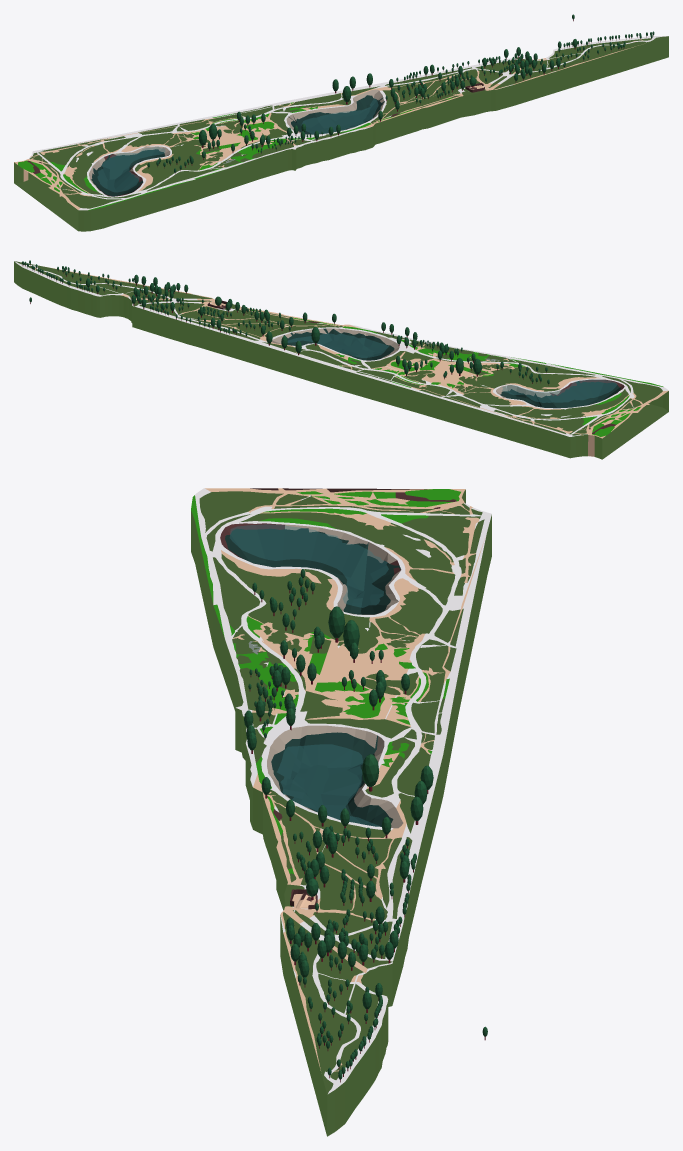
The model's file is parque.glb.
The picture shows the model from 3 angles, top to bottom: view 1: azimuth 30°, elevation 25°; view 2: azimuth 150°, elevation 25°; view 3: azimuth 270°, elevation 25°; orthographic projection. The views are drawn at different scales.
Parts seen in each view (by area): view 1: Cubo, Plano, Plano.001; view 2: Cubo, Plano, Plano.001; view 3: Cubo, Plano, Plano.001.
Part boxes in pixels (left/top/right/bottom): Cubo: left=14, top=36, right=668, bottom=231; Plano: left=97, top=147, right=164, bottom=192; Plano.001: left=302, top=98, right=378, bottom=134; Cubo: left=14, top=261, right=668, bottom=459; Plano: left=502, top=379, right=617, bottom=402; Plano.001: left=288, top=333, right=388, bottom=357; Cubo: left=191, top=488, right=491, bottom=1136; Plano: left=230, top=524, right=388, bottom=607; Plano.001: left=277, top=744, right=380, bottom=826.
Bounding box in the file's own units: 20.65 × 1.26 × 4.33.
